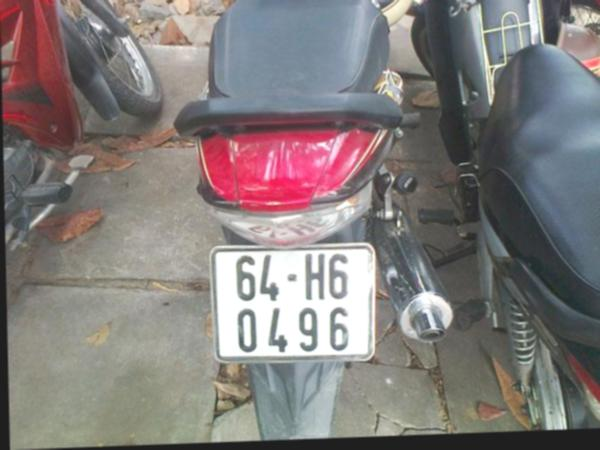License_Plate: (213, 241, 375, 360)
